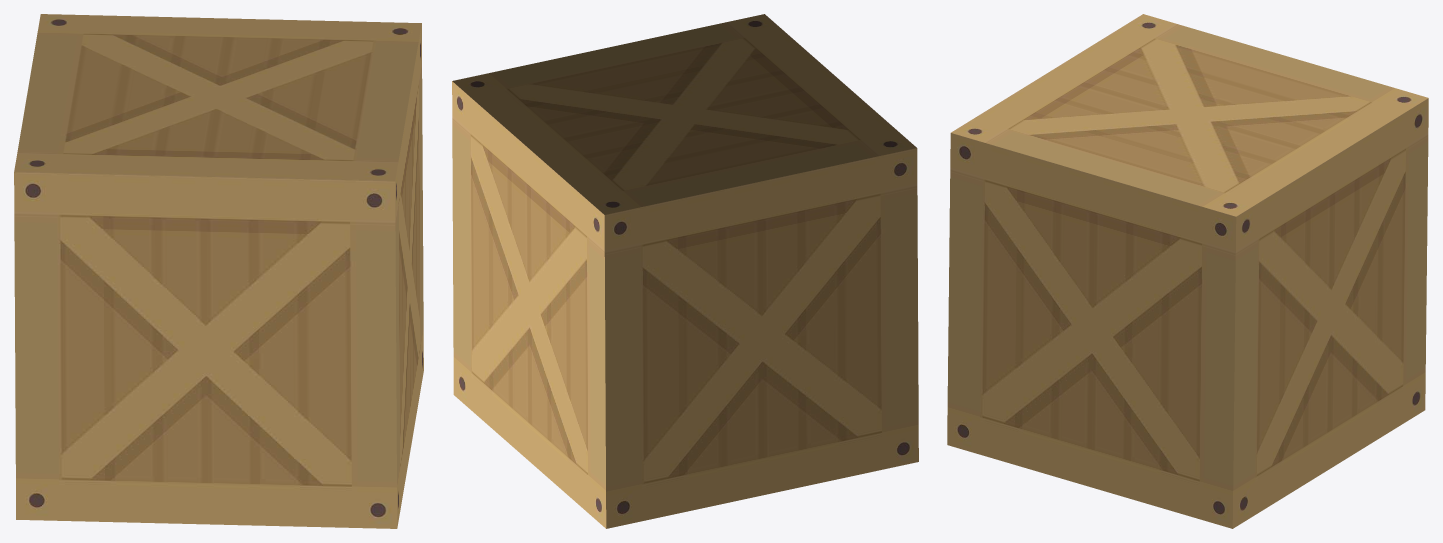
File: crate.glb
The picture shows the model from 3 angles, left to right: view 1: azimuth 30°, elevation 25°; view 2: azimuth 150°, elevation 25°; view 3: azimuth 270°, elevation 25°; orthographic projection. The views are drawn at different scales.
Visible parts, largest first — view 1: Crate; view 2: Crate; view 3: Crate.
Part boxes in pixels (box(x1,y1,x2,y2)): Crate: box(14, 14, 423, 528); Crate: box(452, 14, 918, 528); Crate: box(947, 14, 1428, 528).
Bounding box in the file's own units: 0.1848 × 0.135 × 0.1861.
1 material, 1 textured.
